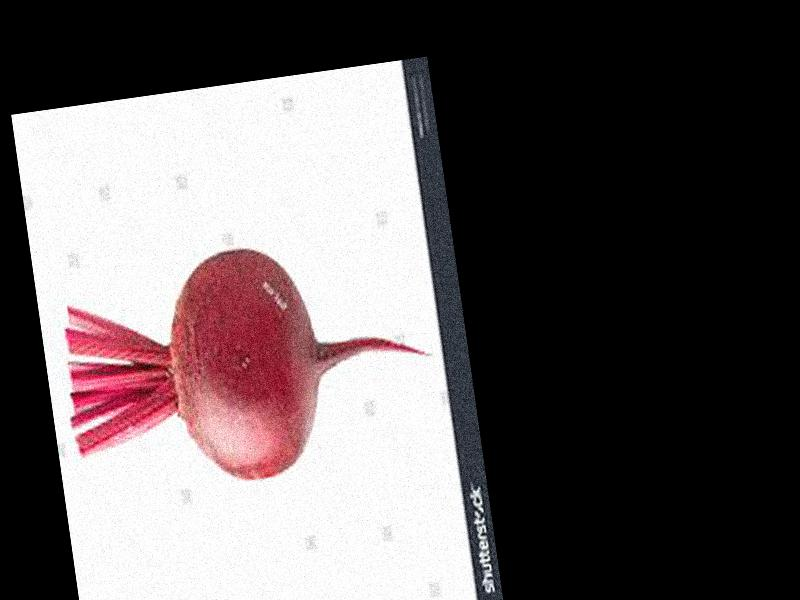Beet: (52, 224, 446, 502)
